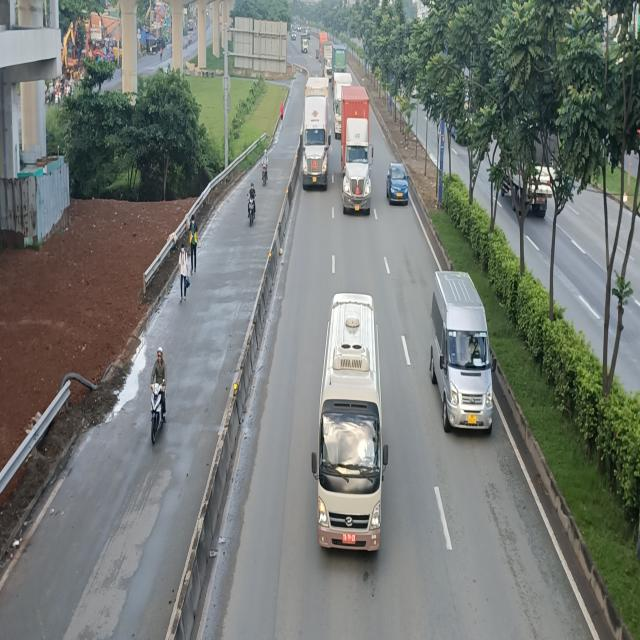car: (386, 162, 409, 206)
coach: (308, 290, 387, 550)
container: (339, 84, 374, 217), (300, 76, 329, 192)
van: (429, 273, 495, 437)
